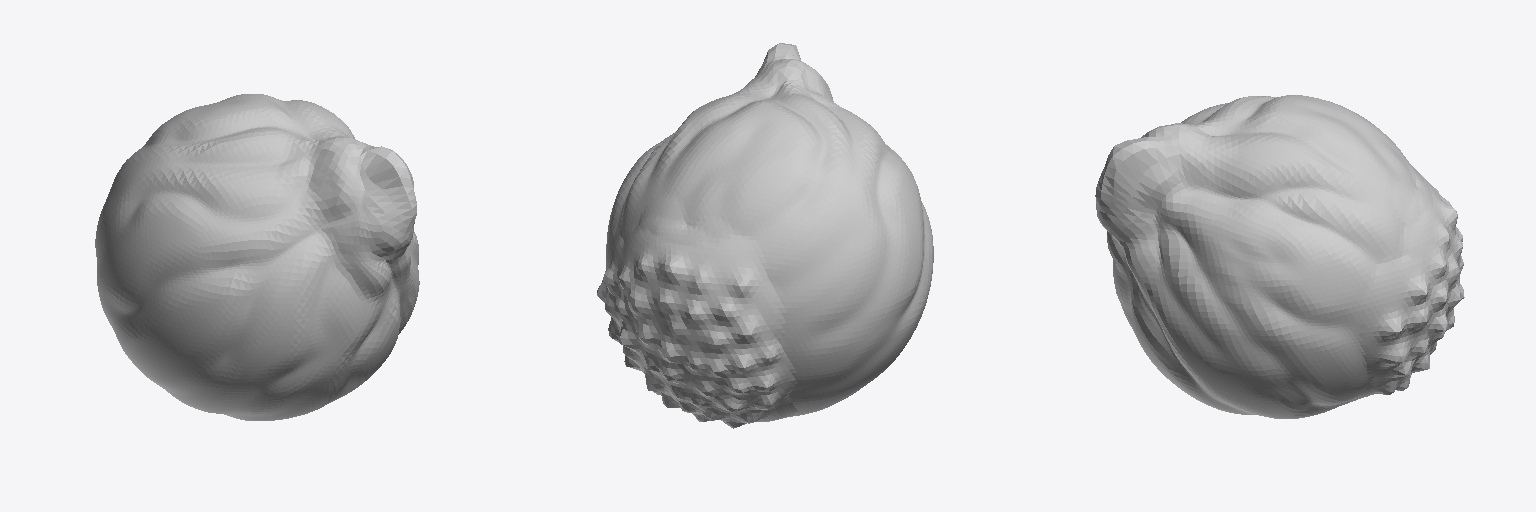
File: thing.obj
3 views of the same model, side by side, from view 1: azimuth 30°, elevation 25°; view 2: azimuth 150°, elevation 25°; view 3: azimuth 270°, elevation 25° (orthographic).
Visible parts, largest first — view 1: Icosphere; view 2: Icosphere; view 3: Icosphere.
Part boxes in pixels (bbox=[...]): Icosphere: bbox=[95, 94, 419, 420]; Icosphere: bbox=[597, 43, 933, 428]; Icosphere: bbox=[1095, 95, 1464, 418].
Size of the model in its own units: 2 by 2 by 2.25.